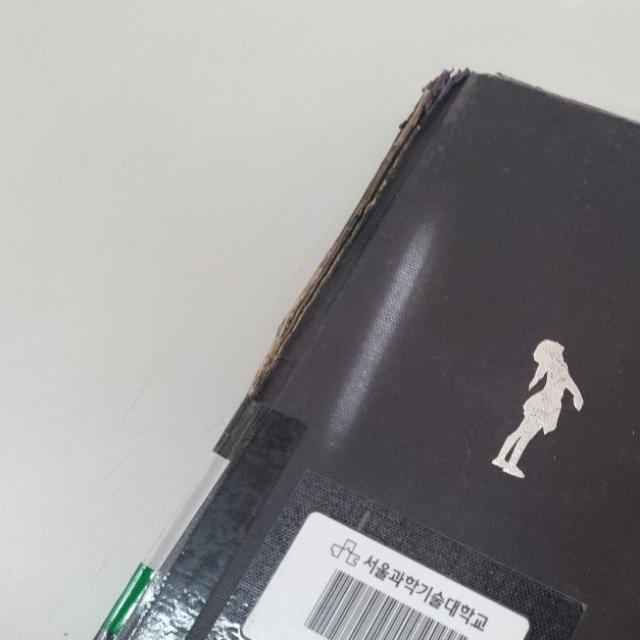Ripped: (245, 54, 506, 398)
Wornout: (503, 72, 639, 135)
